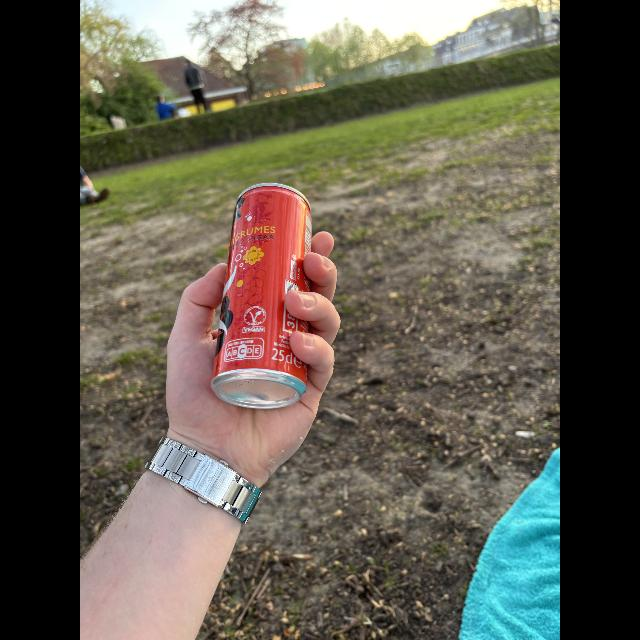Metal: (210, 179, 316, 411)
